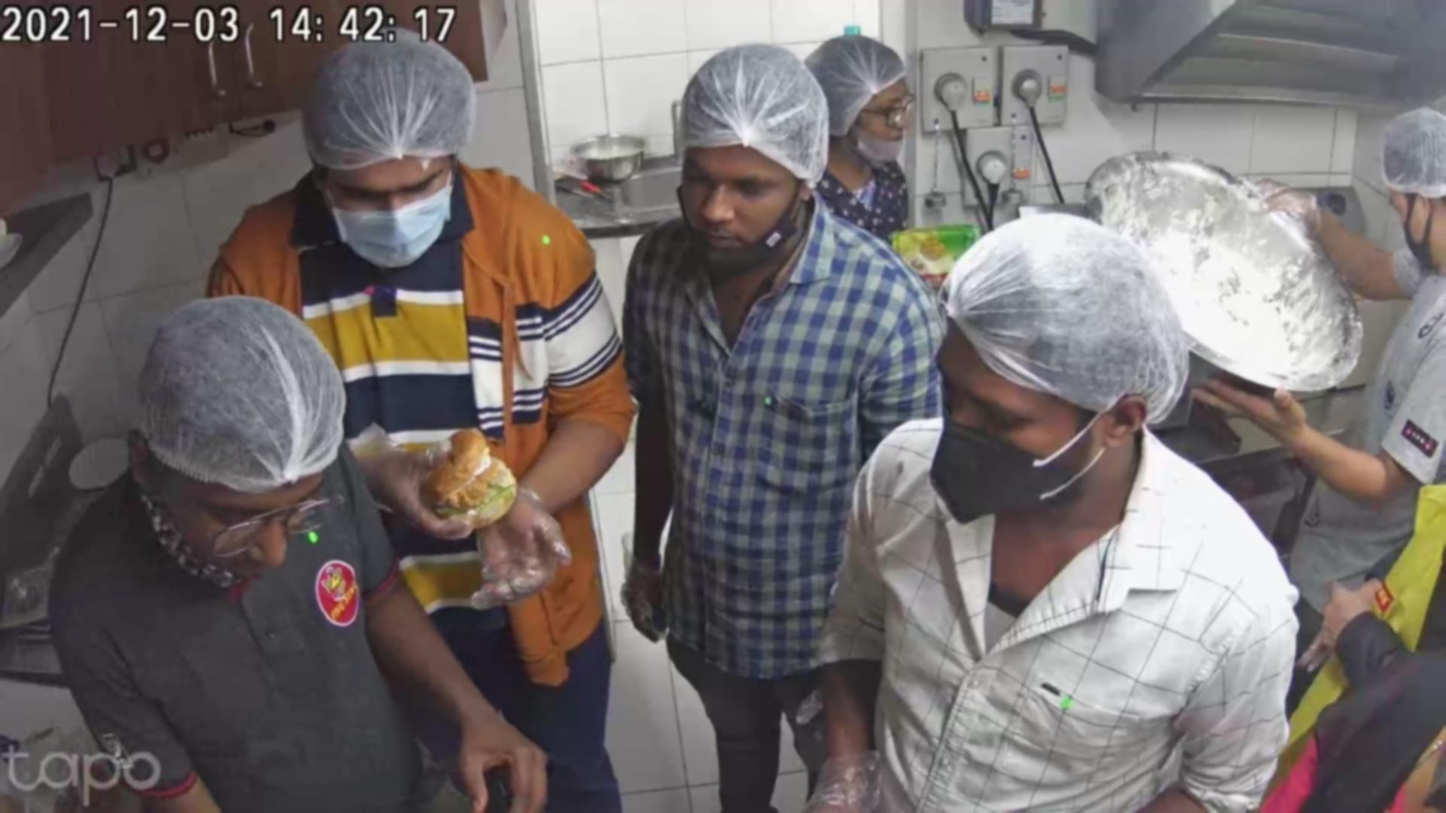apron: (345, 420, 486, 556), (478, 460, 586, 614), (609, 521, 688, 661), (794, 723, 905, 813), (1233, 164, 1336, 241)
gloves: (950, 209, 1190, 422), (127, 289, 358, 489), (285, 18, 486, 173), (659, 33, 839, 201), (799, 33, 926, 137), (1366, 108, 1446, 208)
mask: (913, 395, 1088, 529), (312, 171, 462, 272)
no_apron: (438, 706, 566, 813), (1195, 370, 1317, 456), (1311, 565, 1390, 646)
no_hairnet: (158, 486, 321, 601), (669, 169, 803, 270), (840, 100, 917, 172)
